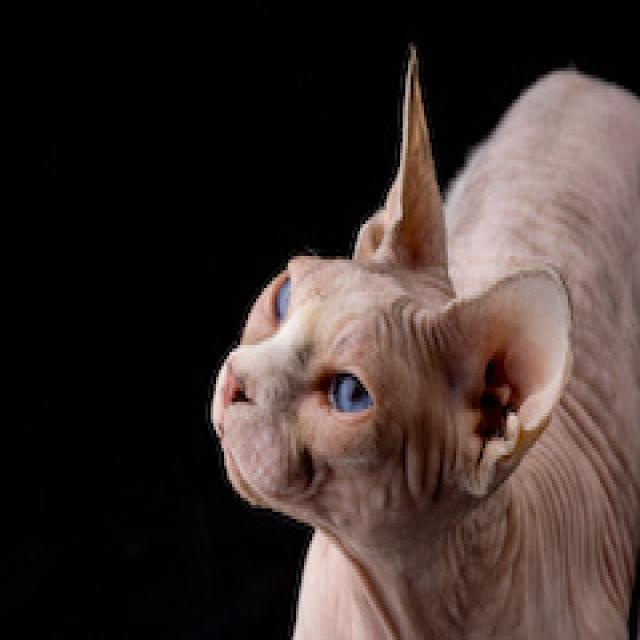Sphynx: (209, 37, 581, 545)
